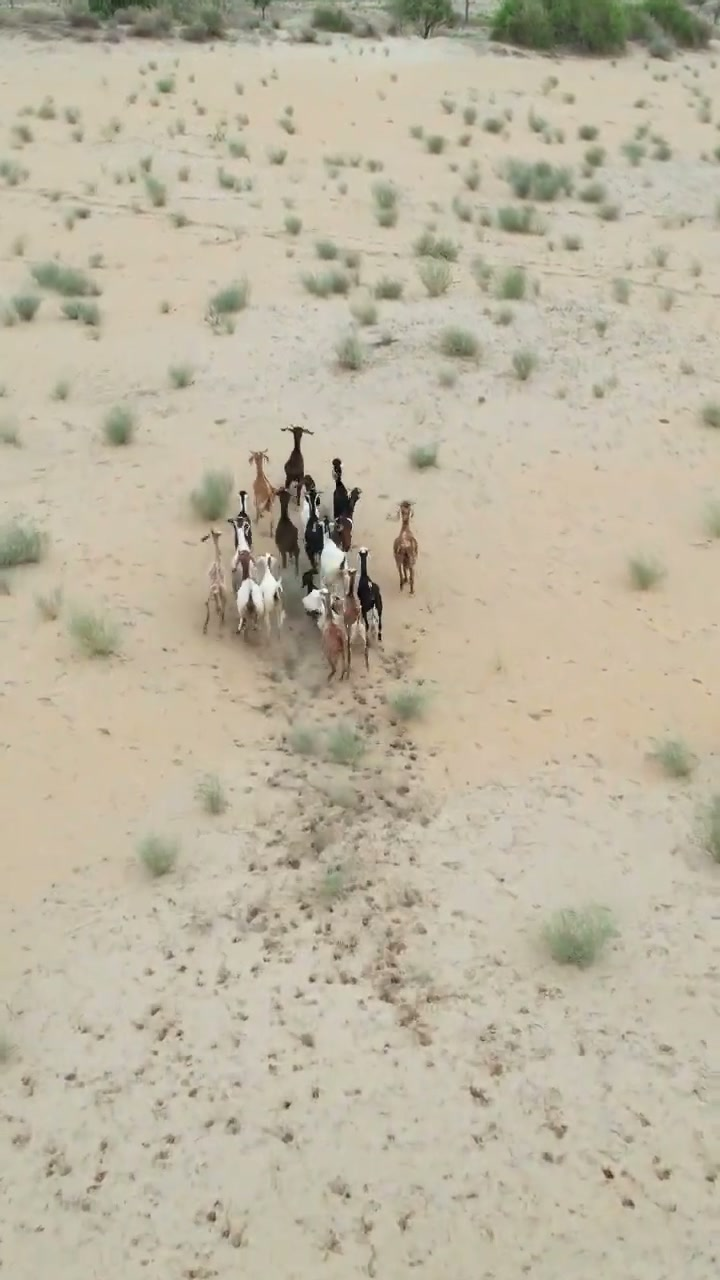animal_foot_print: (27, 543, 694, 822)
